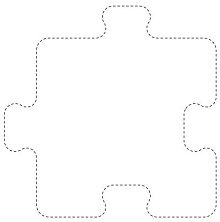puzzle piece: (5, 2, 219, 221)
